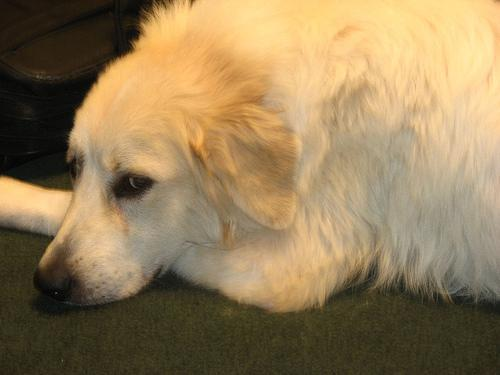Great_Pyrenees: (0, 0, 499, 314)
